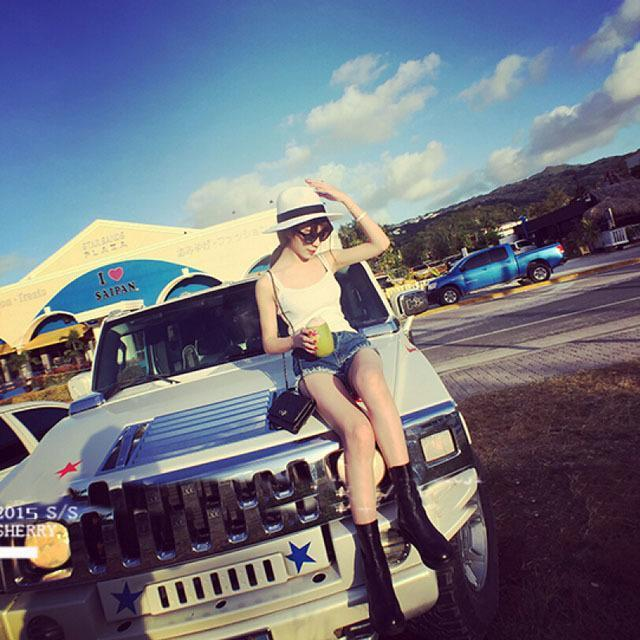shorts: (293, 325, 382, 388)
sling: (267, 254, 359, 349)
